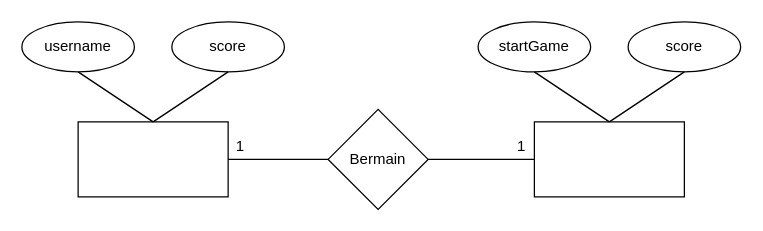
Some shapes in this 763 by 231 pixel diagram are drawn without their labels. The centre of each missing label's shape, as x and y in pixels:
Game: the point at 608,159
User: the point at 152,159
